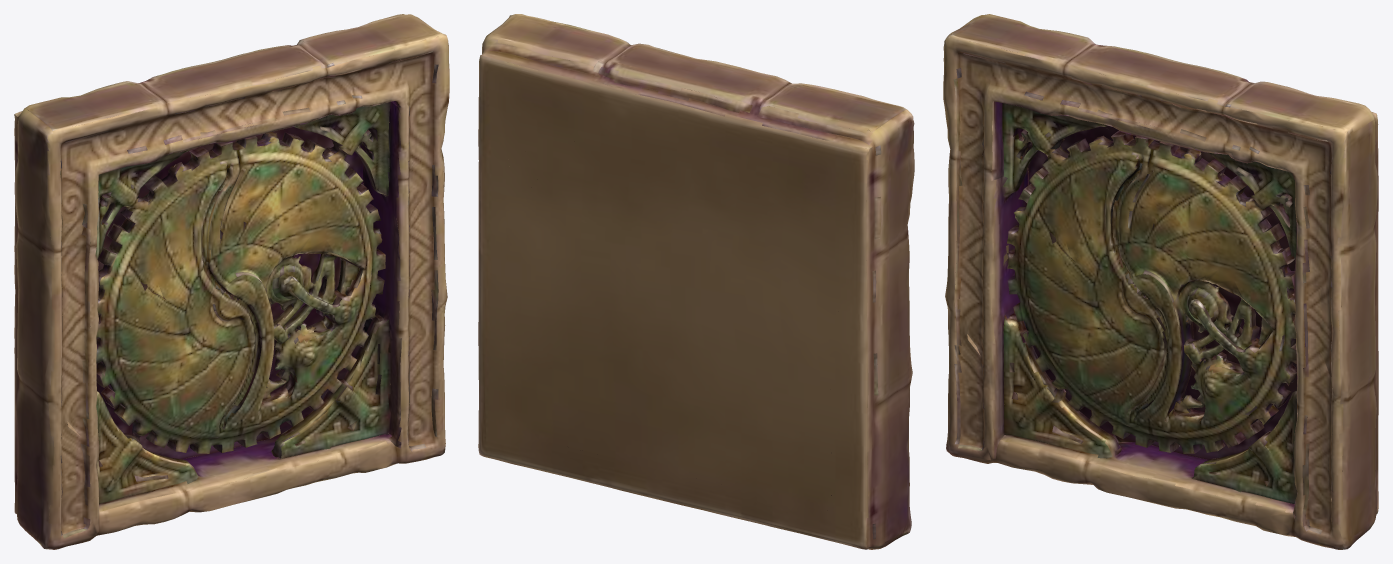
The model's file is gear_gate_01.glb.
The picture shows the model from 3 angles, left to right: view 1: azimuth 30°, elevation 25°; view 2: azimuth 150°, elevation 25°; view 3: azimuth 330°, elevation 25°; orthographic projection.
Visible parts, largest first — view 1: gear_gate_01_mesh_01; view 2: gear_gate_01_mesh_01; view 3: gear_gate_01_mesh_01.
Boxes of the visible parts, x1=… form: gear_gate_01_mesh_01: x1=14, y1=14, x2=449, y2=549; gear_gate_01_mesh_01: x1=478, y1=14, x2=914, y2=549; gear_gate_01_mesh_01: x1=943, y1=14, x2=1378, y2=549.
Size of the model in its own units: 1.91 by 1.91 by 0.3484.
Materials: 1 (1 with a texture image).
